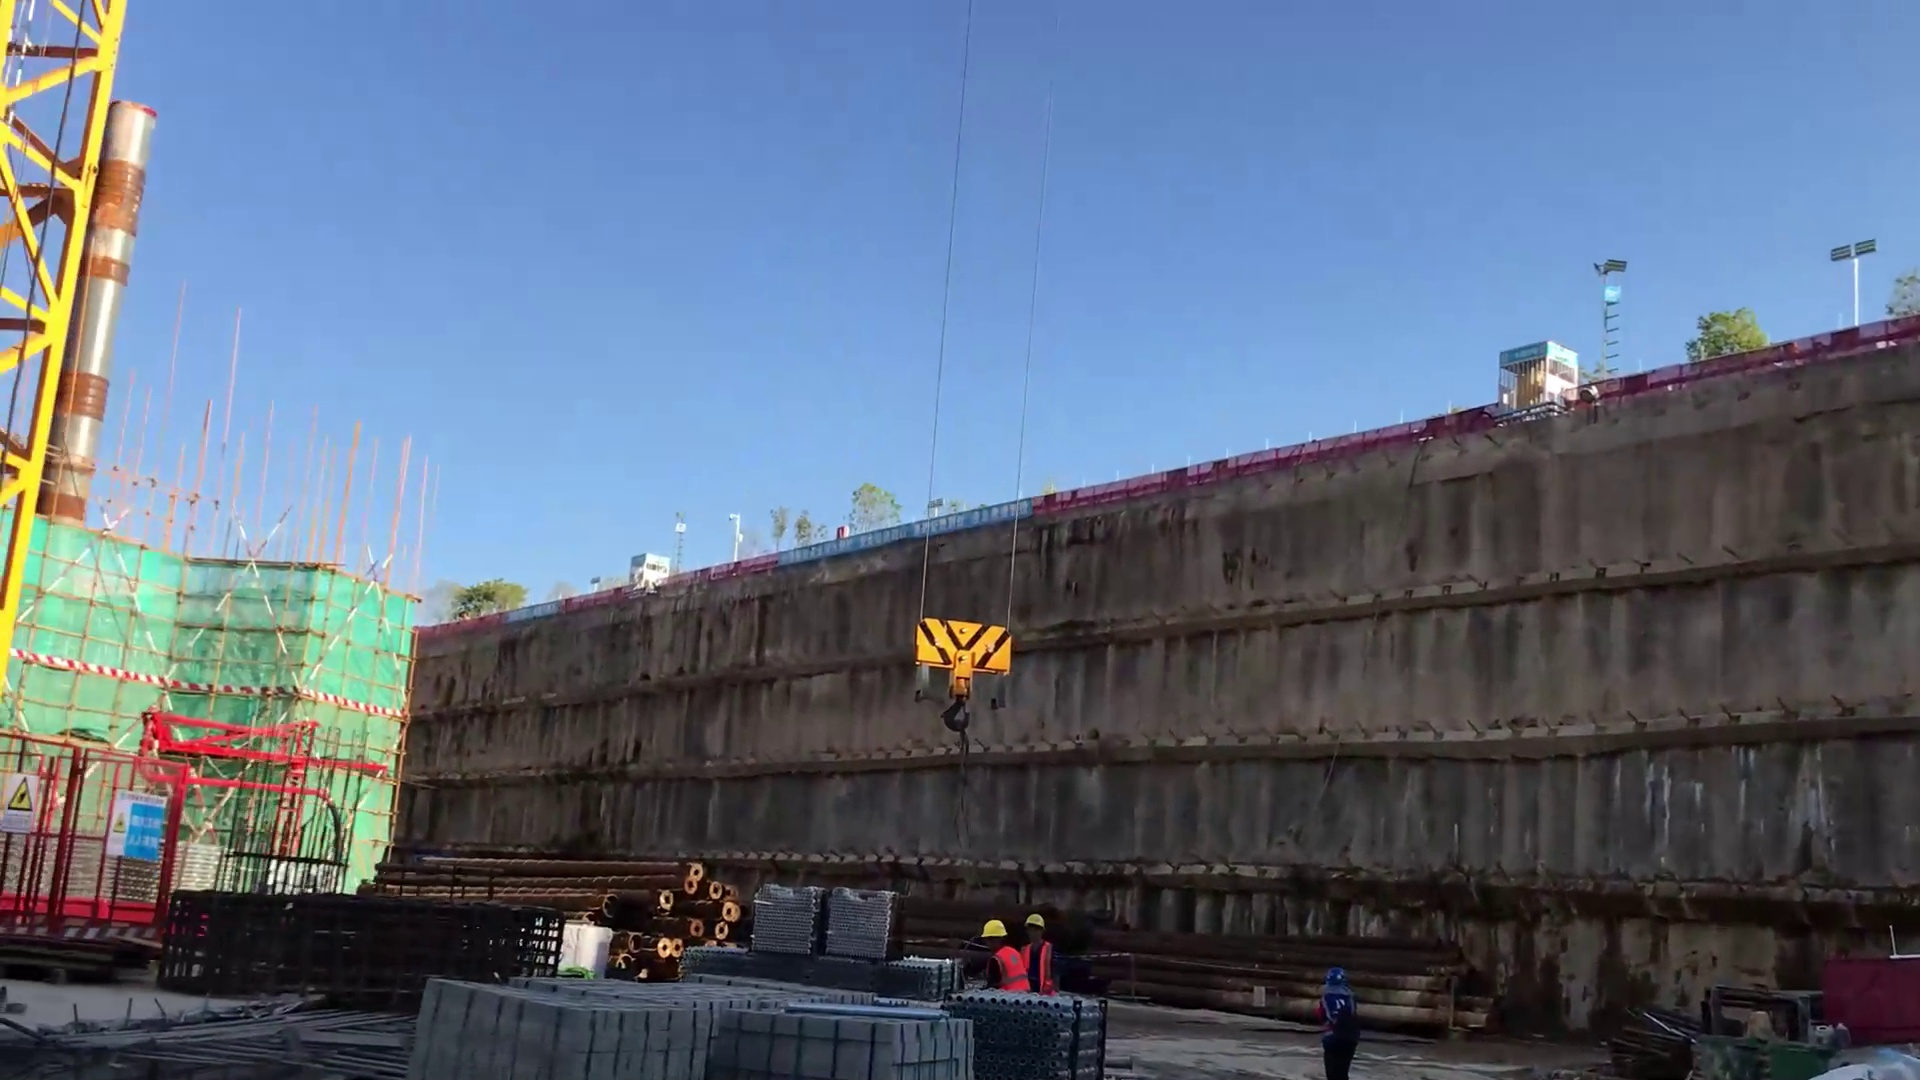helmet: (1301, 958, 1354, 989), (969, 916, 1006, 942)
hook: (913, 608, 1015, 731)
person: (975, 897, 1067, 1004), (1311, 954, 1378, 1079)
scaffold: (361, 935, 1102, 1080)
vest: (992, 941, 1031, 989), (1031, 927, 1061, 987)
